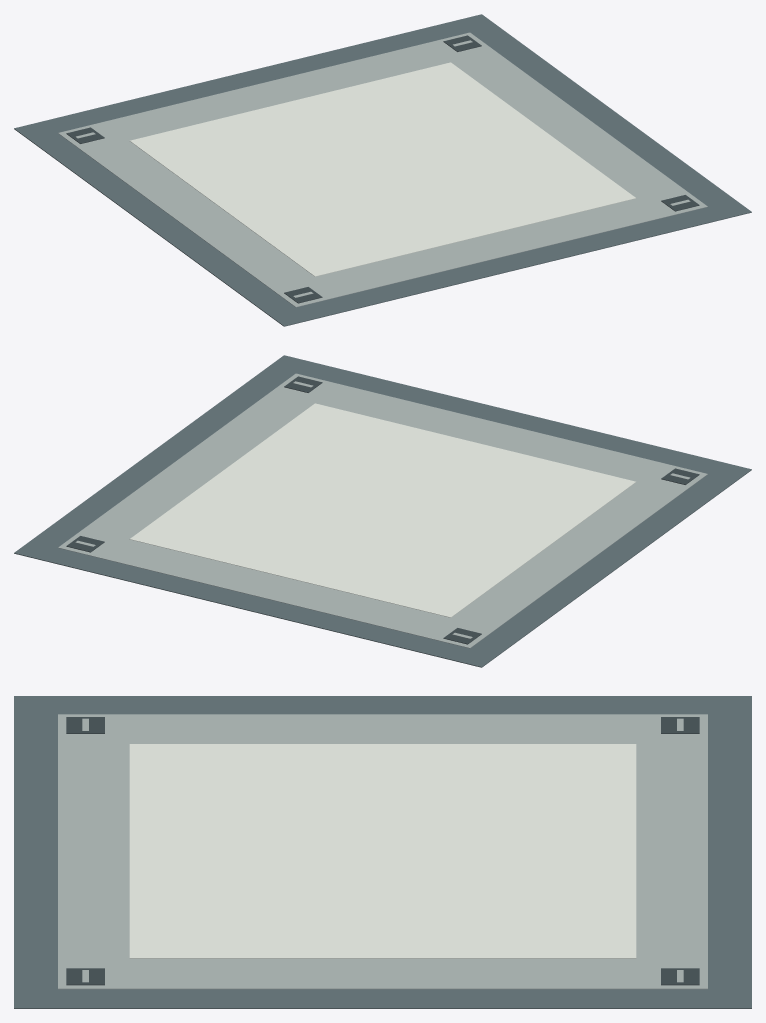
Rendered from lamp.glb.
3 views of the same model, one above another, from view 1: azimuth 30°, elevation 25°; view 2: azimuth 150°, elevation 25°; view 3: azimuth 270°, elevation 25° (orthographic). The views are drawn at different scales.
Visible parts, largest first — view 1: PaleLens, MetalBezel, SquareHousing; view 2: PaleLens, MetalBezel, SquareHousing; view 3: PaleLens, MetalBezel, SquareHousing, Fastener2, Fastener3, Fastener0, Fastener1.
Boxes of the visible parts, x1,y1,x2,y2 form: PaleLens: (130, 62, 636, 276); MetalBezel: (58, 32, 707, 307); SquareHousing: (14, 14, 751, 326); PaleLens: (129, 403, 635, 617); MetalBezel: (58, 373, 707, 648); SquareHousing: (14, 355, 751, 667); PaleLens: (129, 744, 636, 958); MetalBezel: (58, 714, 707, 989); SquareHousing: (14, 696, 751, 1008); Fastener2: (66, 968, 104, 985); Fastener3: (661, 968, 699, 985); Fastener0: (66, 717, 104, 733); Fastener1: (661, 717, 699, 733).
Bounding box in the file's own units: 1.34 × 0.005 × 1.34.
